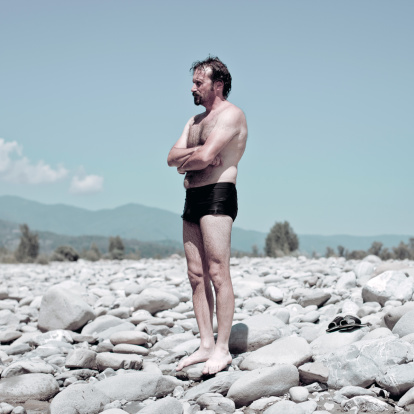em pe: (166, 50, 250, 372)
